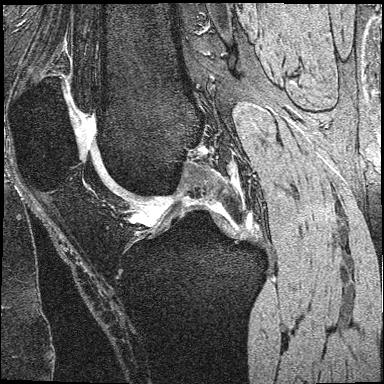SagKneeJointArea: (7, 76, 270, 326)
